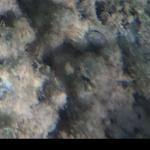dead: (3, 4, 136, 132)
